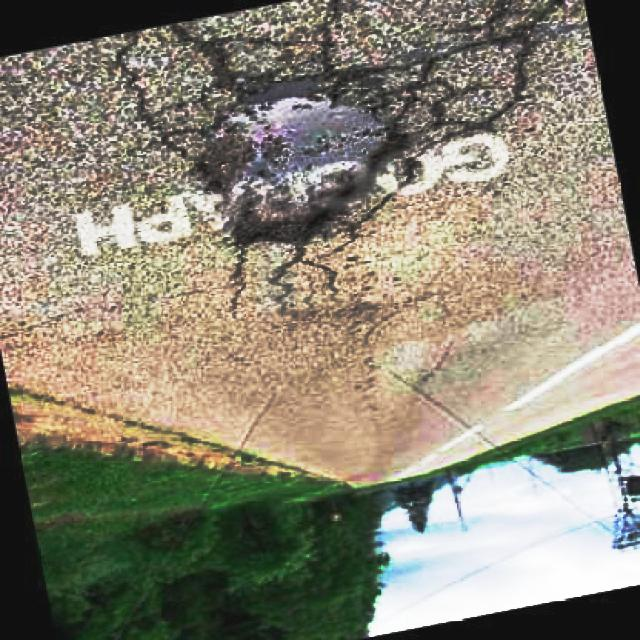pothole: (183, 65, 414, 249)
